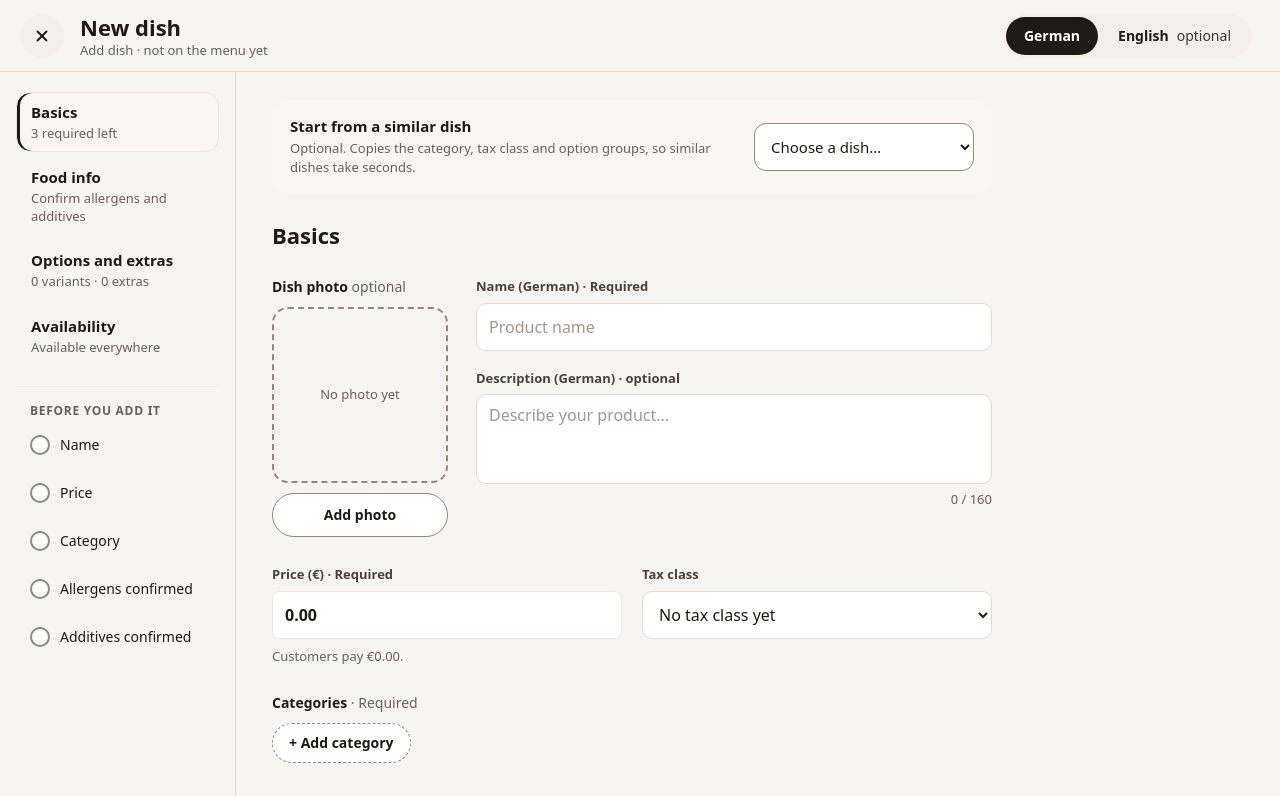
Scenario: AddDishPanel required list › an empty form says "5 required left"; clicking it jumps to Basics and shows the three inline errors
Expected: the heading "New dish" is shown, [80,12,181,42]
Expected: the text "Add dish · not on the menu yet" is shown, [80,40,268,58]
Step 1. Click the button "Availability Available everywhere" → click(118, 336), box [16,306,219,366]
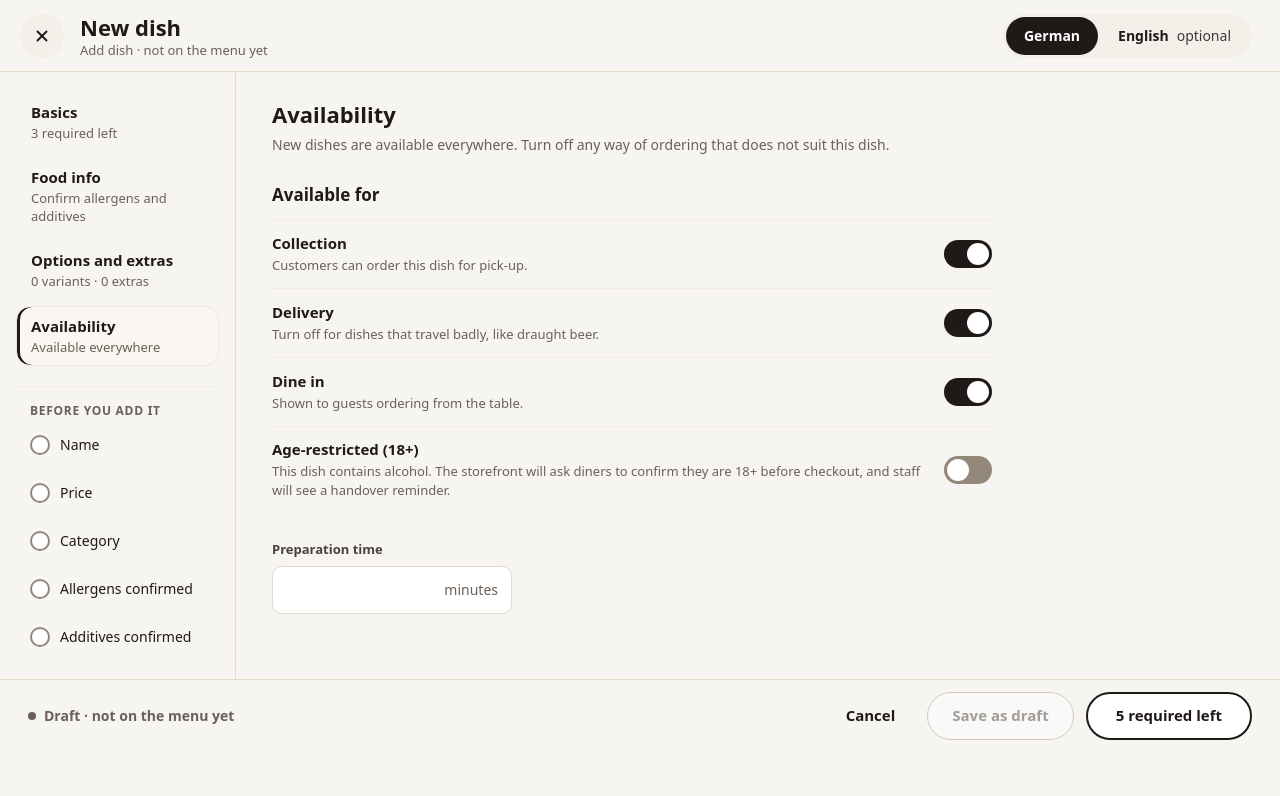
Step 2. Click the button "5 required left" → click(1169, 716), box [1086,692,1252,740]
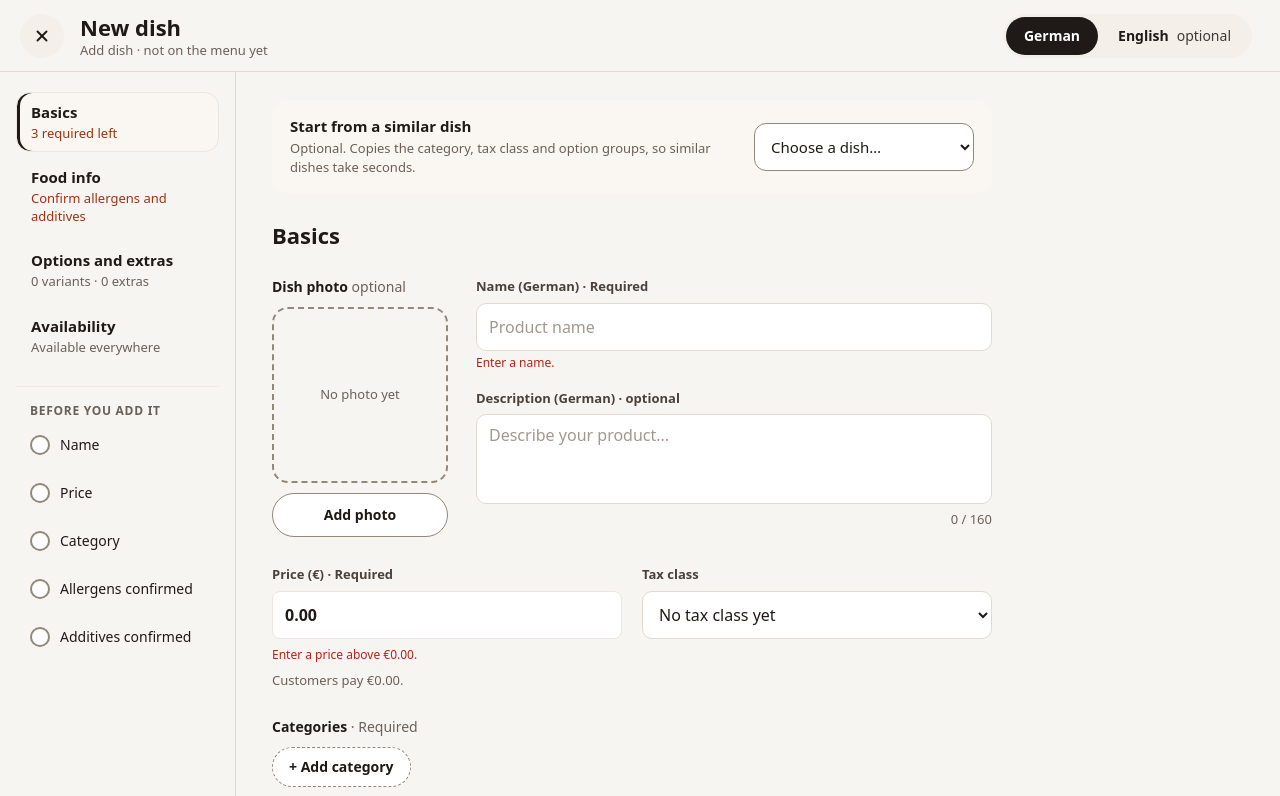
Now the heading "Basics" is shown, box [272,220,340,250]
